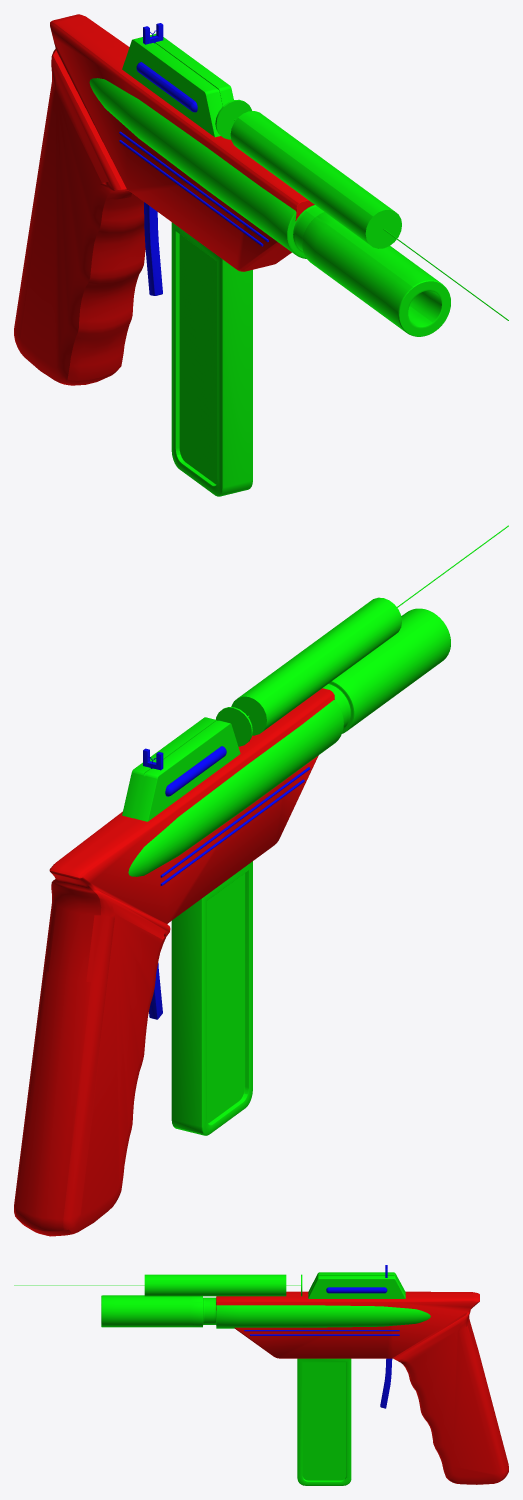
The model's file is DartGun.fbx.
3 renders of one model, top to bottom at view 1: azimuth 30°, elevation 25°; view 2: azimuth 150°, elevation 25°; view 3: azimuth 270°, elevation 25°, orthographic. The views are drawn at different scales.
Visible parts, largest first — view 1: polySurface20; view 2: polySurface20; view 3: polySurface20.
Part boxes in pixels (x1,y1,x2,y2): polySurface20: (14,14,508,496); polySurface20: (14,525,508,1236); polySurface20: (14,1265,508,1485).
Bounding box in the file's own units: 90.93 × 591 × 1234.
